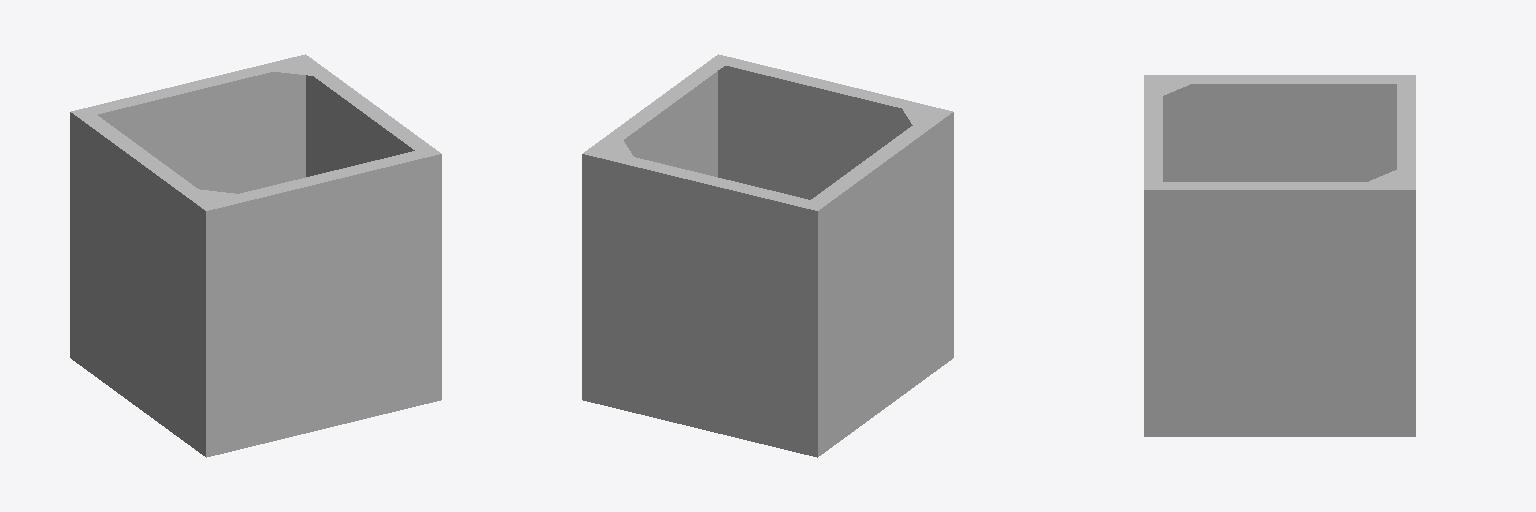
File: saltCondenser.obj
3 views of the same model, side by side, from view 1: azimuth 30°, elevation 25°; view 2: azimuth 150°, elevation 25°; view 3: azimuth 270°, elevation 25° (orthographic).
Parts seen in each view (by area): view 1: Cube_Cube.001; view 2: Cube_Cube.001; view 3: Cube_Cube.001.
Boxes of the visible parts, x1,y1,x2,y2 form: Cube_Cube.001: [70, 54, 441, 457]; Cube_Cube.001: [582, 54, 953, 457]; Cube_Cube.001: [1144, 75, 1415, 436].
Size of the model in its own units: 0.875 by 0.875 by 0.875.